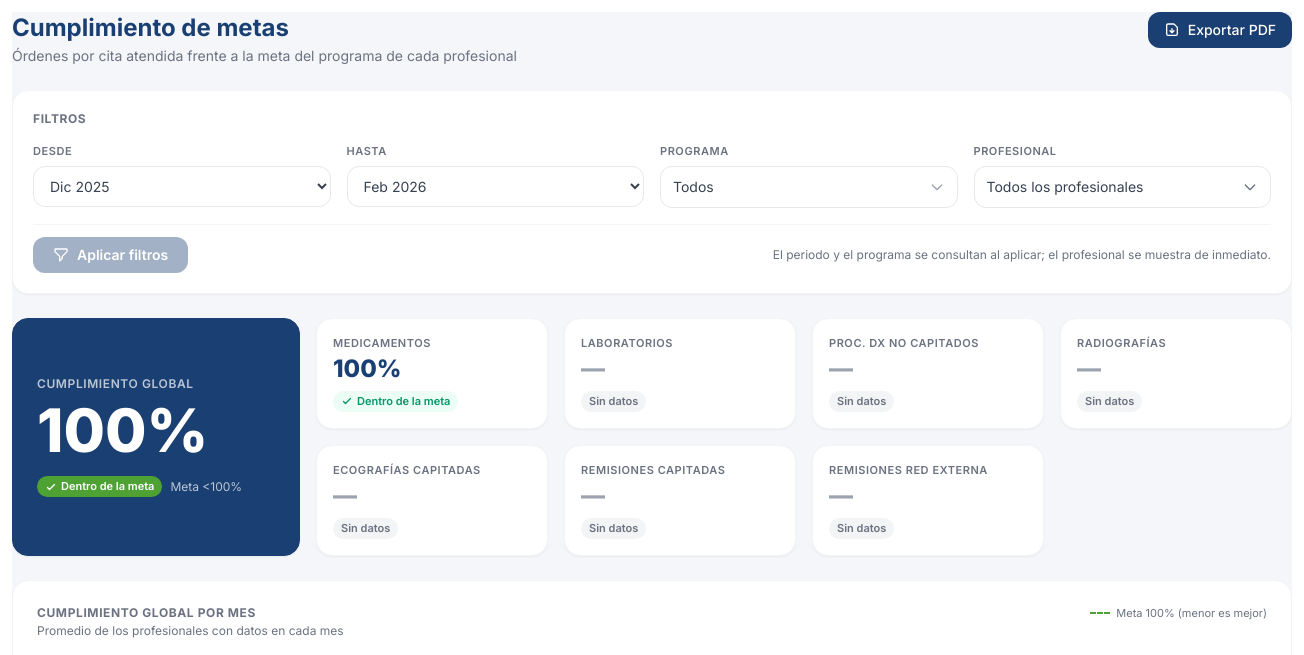
Test: CumplimientoView › elegir un profesional en el filtro abre su tablero sin volver a consultar
Click the button with aria-label "Profesional:" at {"x": 1122, "y": 186}, box [974,166,1271,208]
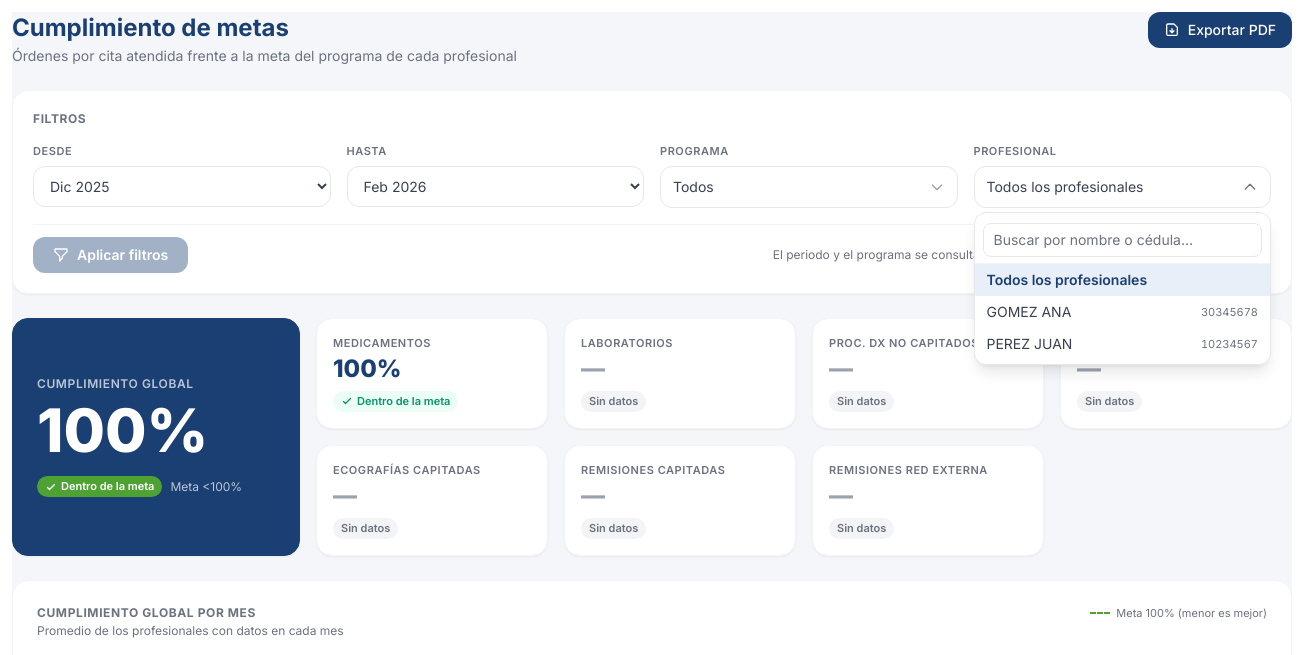
Click the option "GOMEZ ANA 30345678" at {"x": 1029, "y": 311}, box [986,302,1258,320]
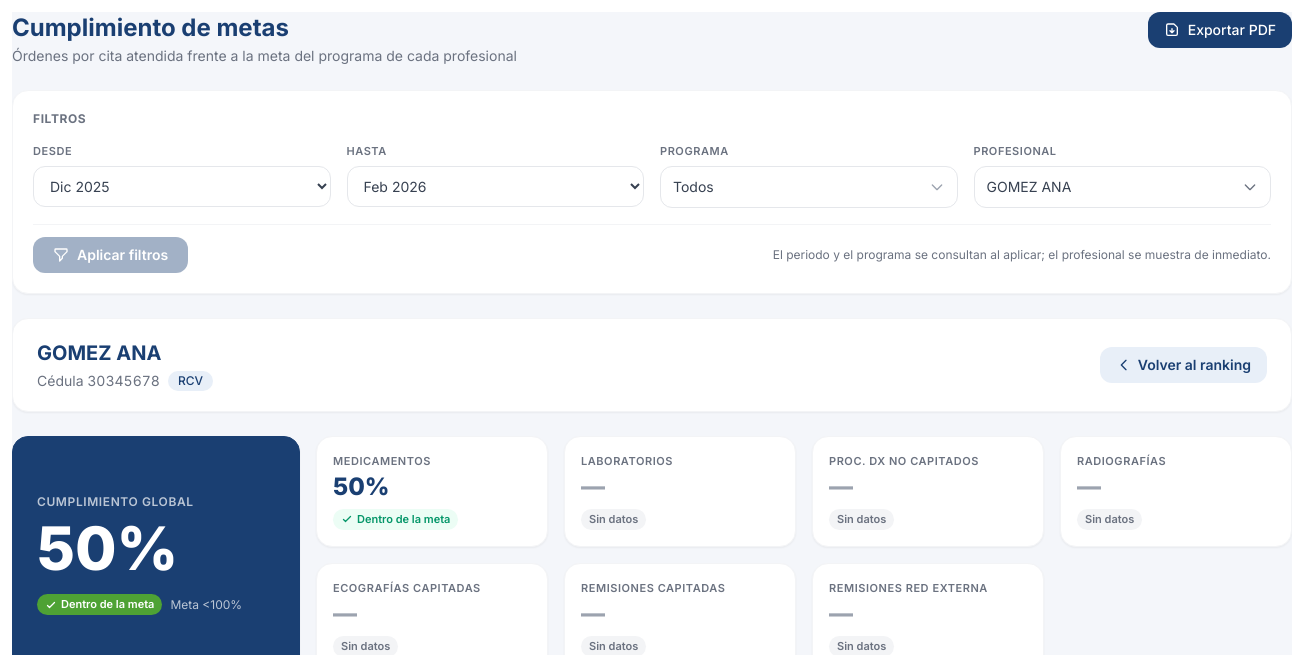
Result: the heading "GOMEZ ANA" is shown at [37,340,161,364]
Result: the button with aria-label "Profesional:" reads "GOMEZ ANA" at [974,166,1271,208]
